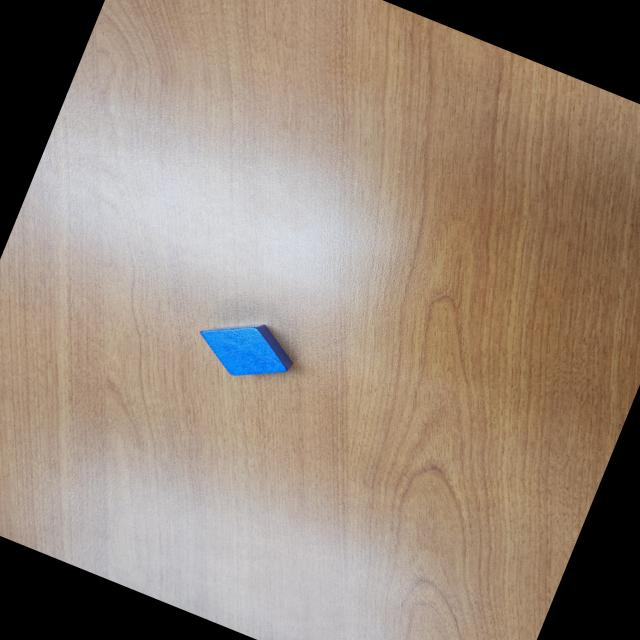blue: (190, 303, 306, 396)
